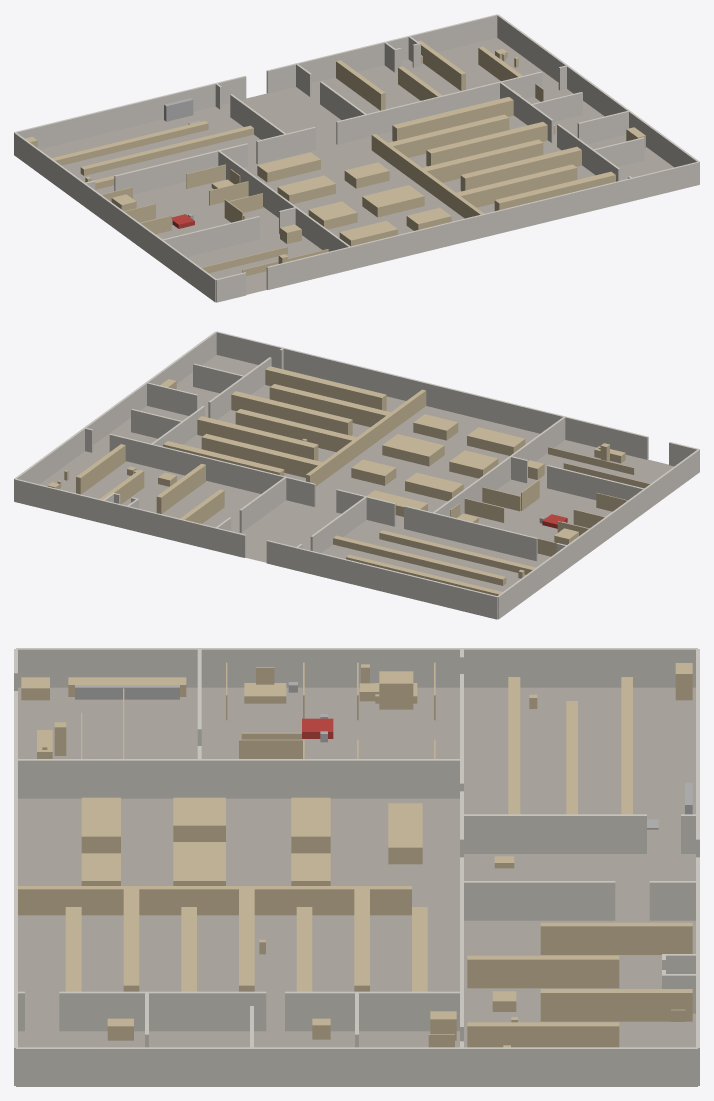
The model's file is bureau_store.glb.
The picture shows the model from 3 angles, top to bottom: view 1: azimuth 30°, elevation 25°; view 2: azimuth 150°, elevation 25°; view 3: azimuth 270°, elevation 25°; orthographic projection. The views are drawn at different scales.
Visible parts, largest first — view 1: BureauStore; view 2: BureauStore; view 3: BureauStore.
Part boxes in pixels (x1,y1,x2,y2): BureauStore: [14, 14, 699, 302]; BureauStore: [14, 331, 699, 619]; BureauStore: [14, 648, 699, 1086].
Bounding box in the file's own units: 72.3 × 3.2 × 52.3.
